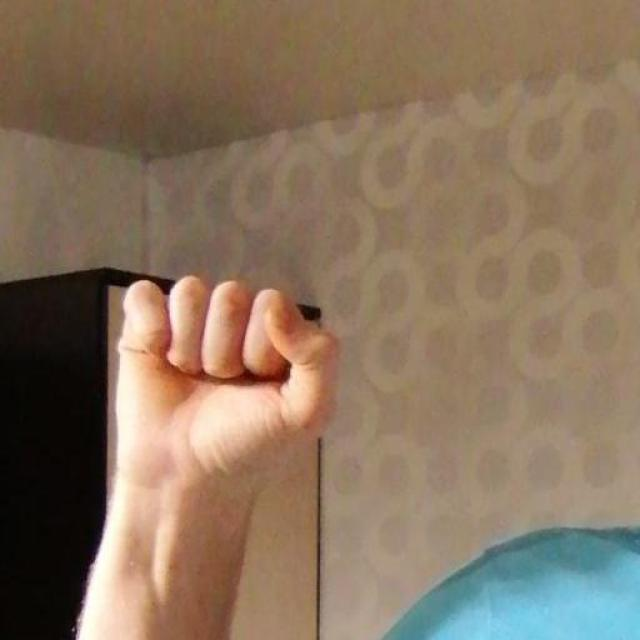hand: (70, 272, 340, 502)
